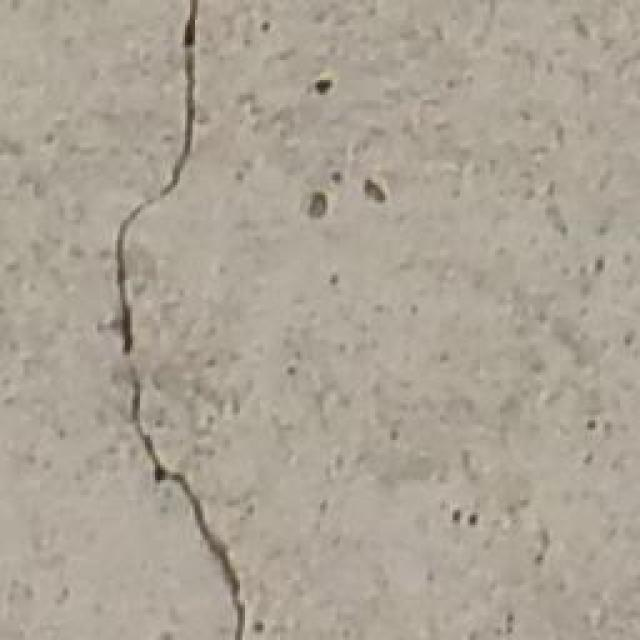concrete-crack: (115, 0, 198, 358), (132, 380, 245, 640)
